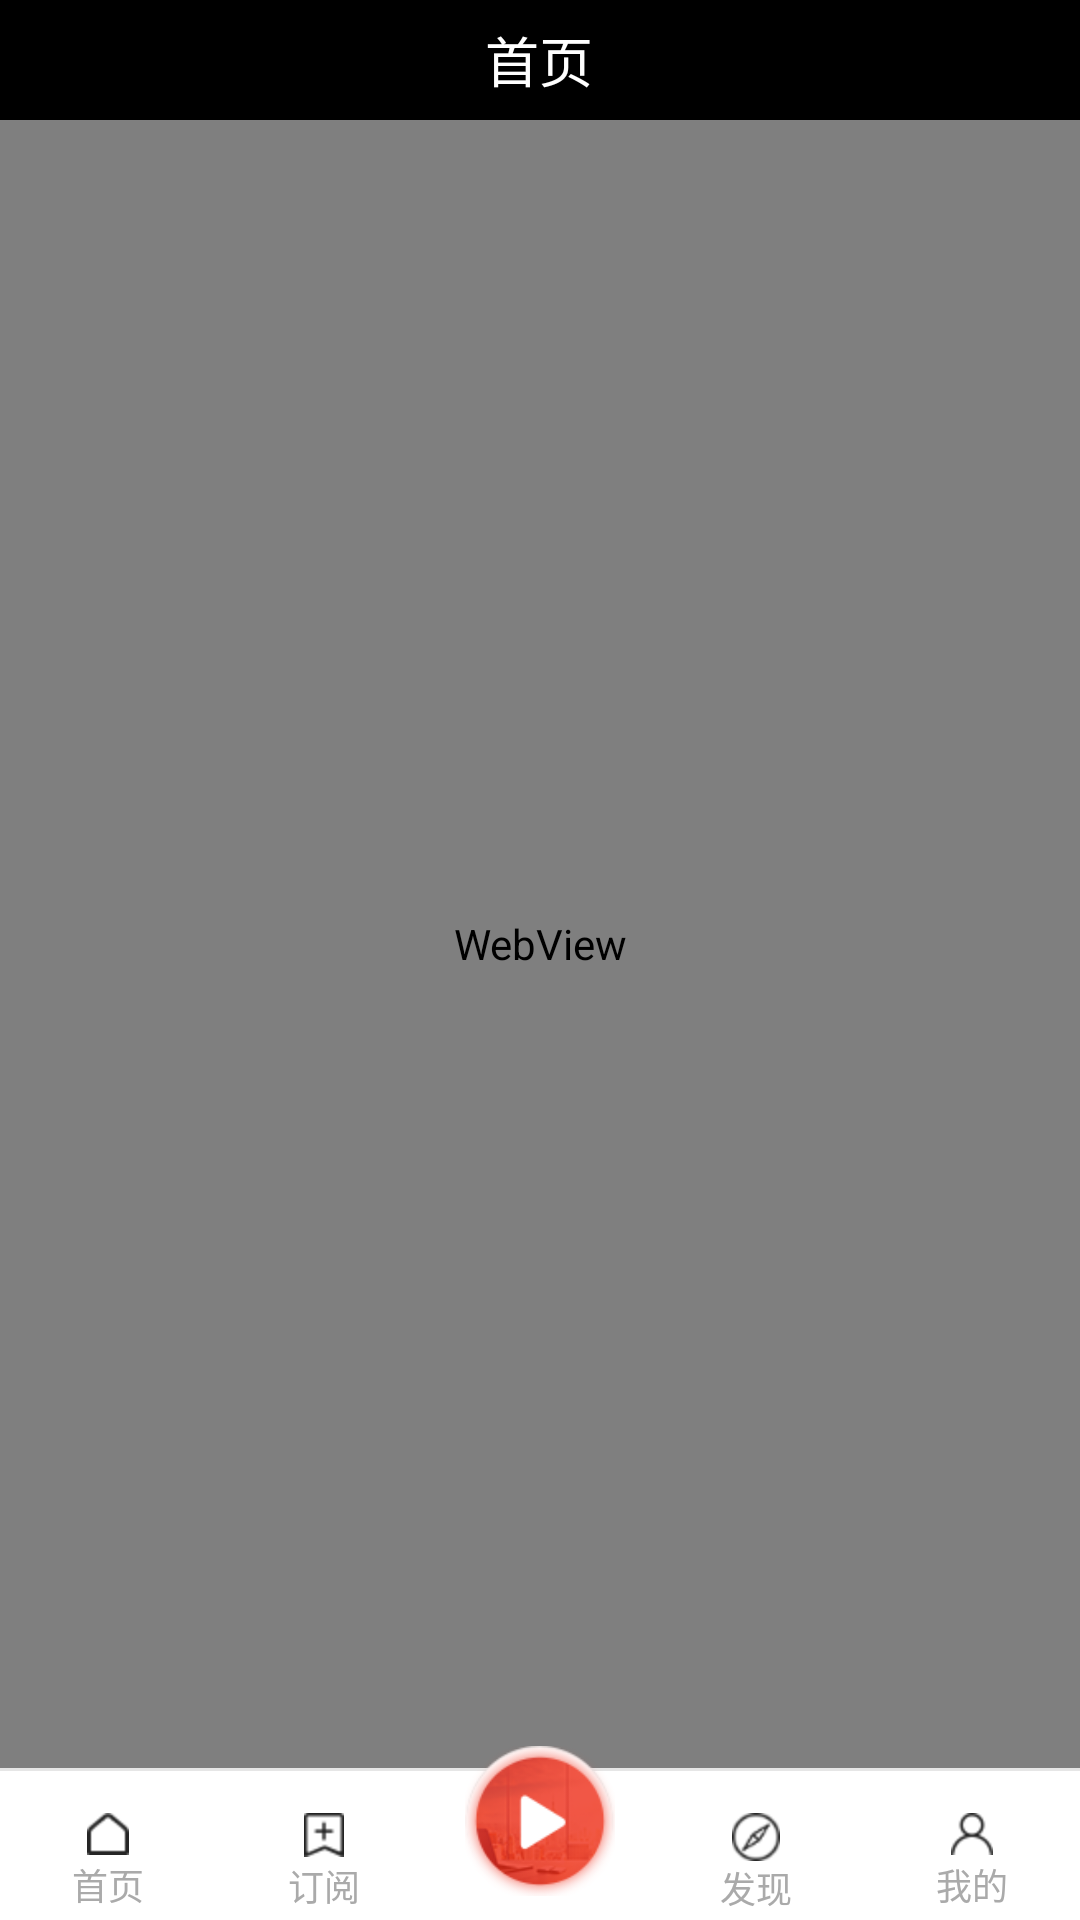

Icon click points for this 1080w x 1920h phone screenshot, format (x,y):
play: (540,1819)
